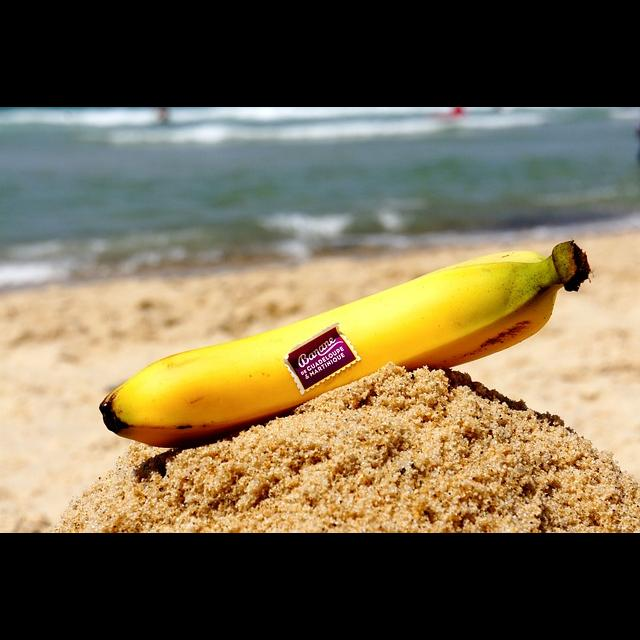apple: (82, 214, 586, 455)
